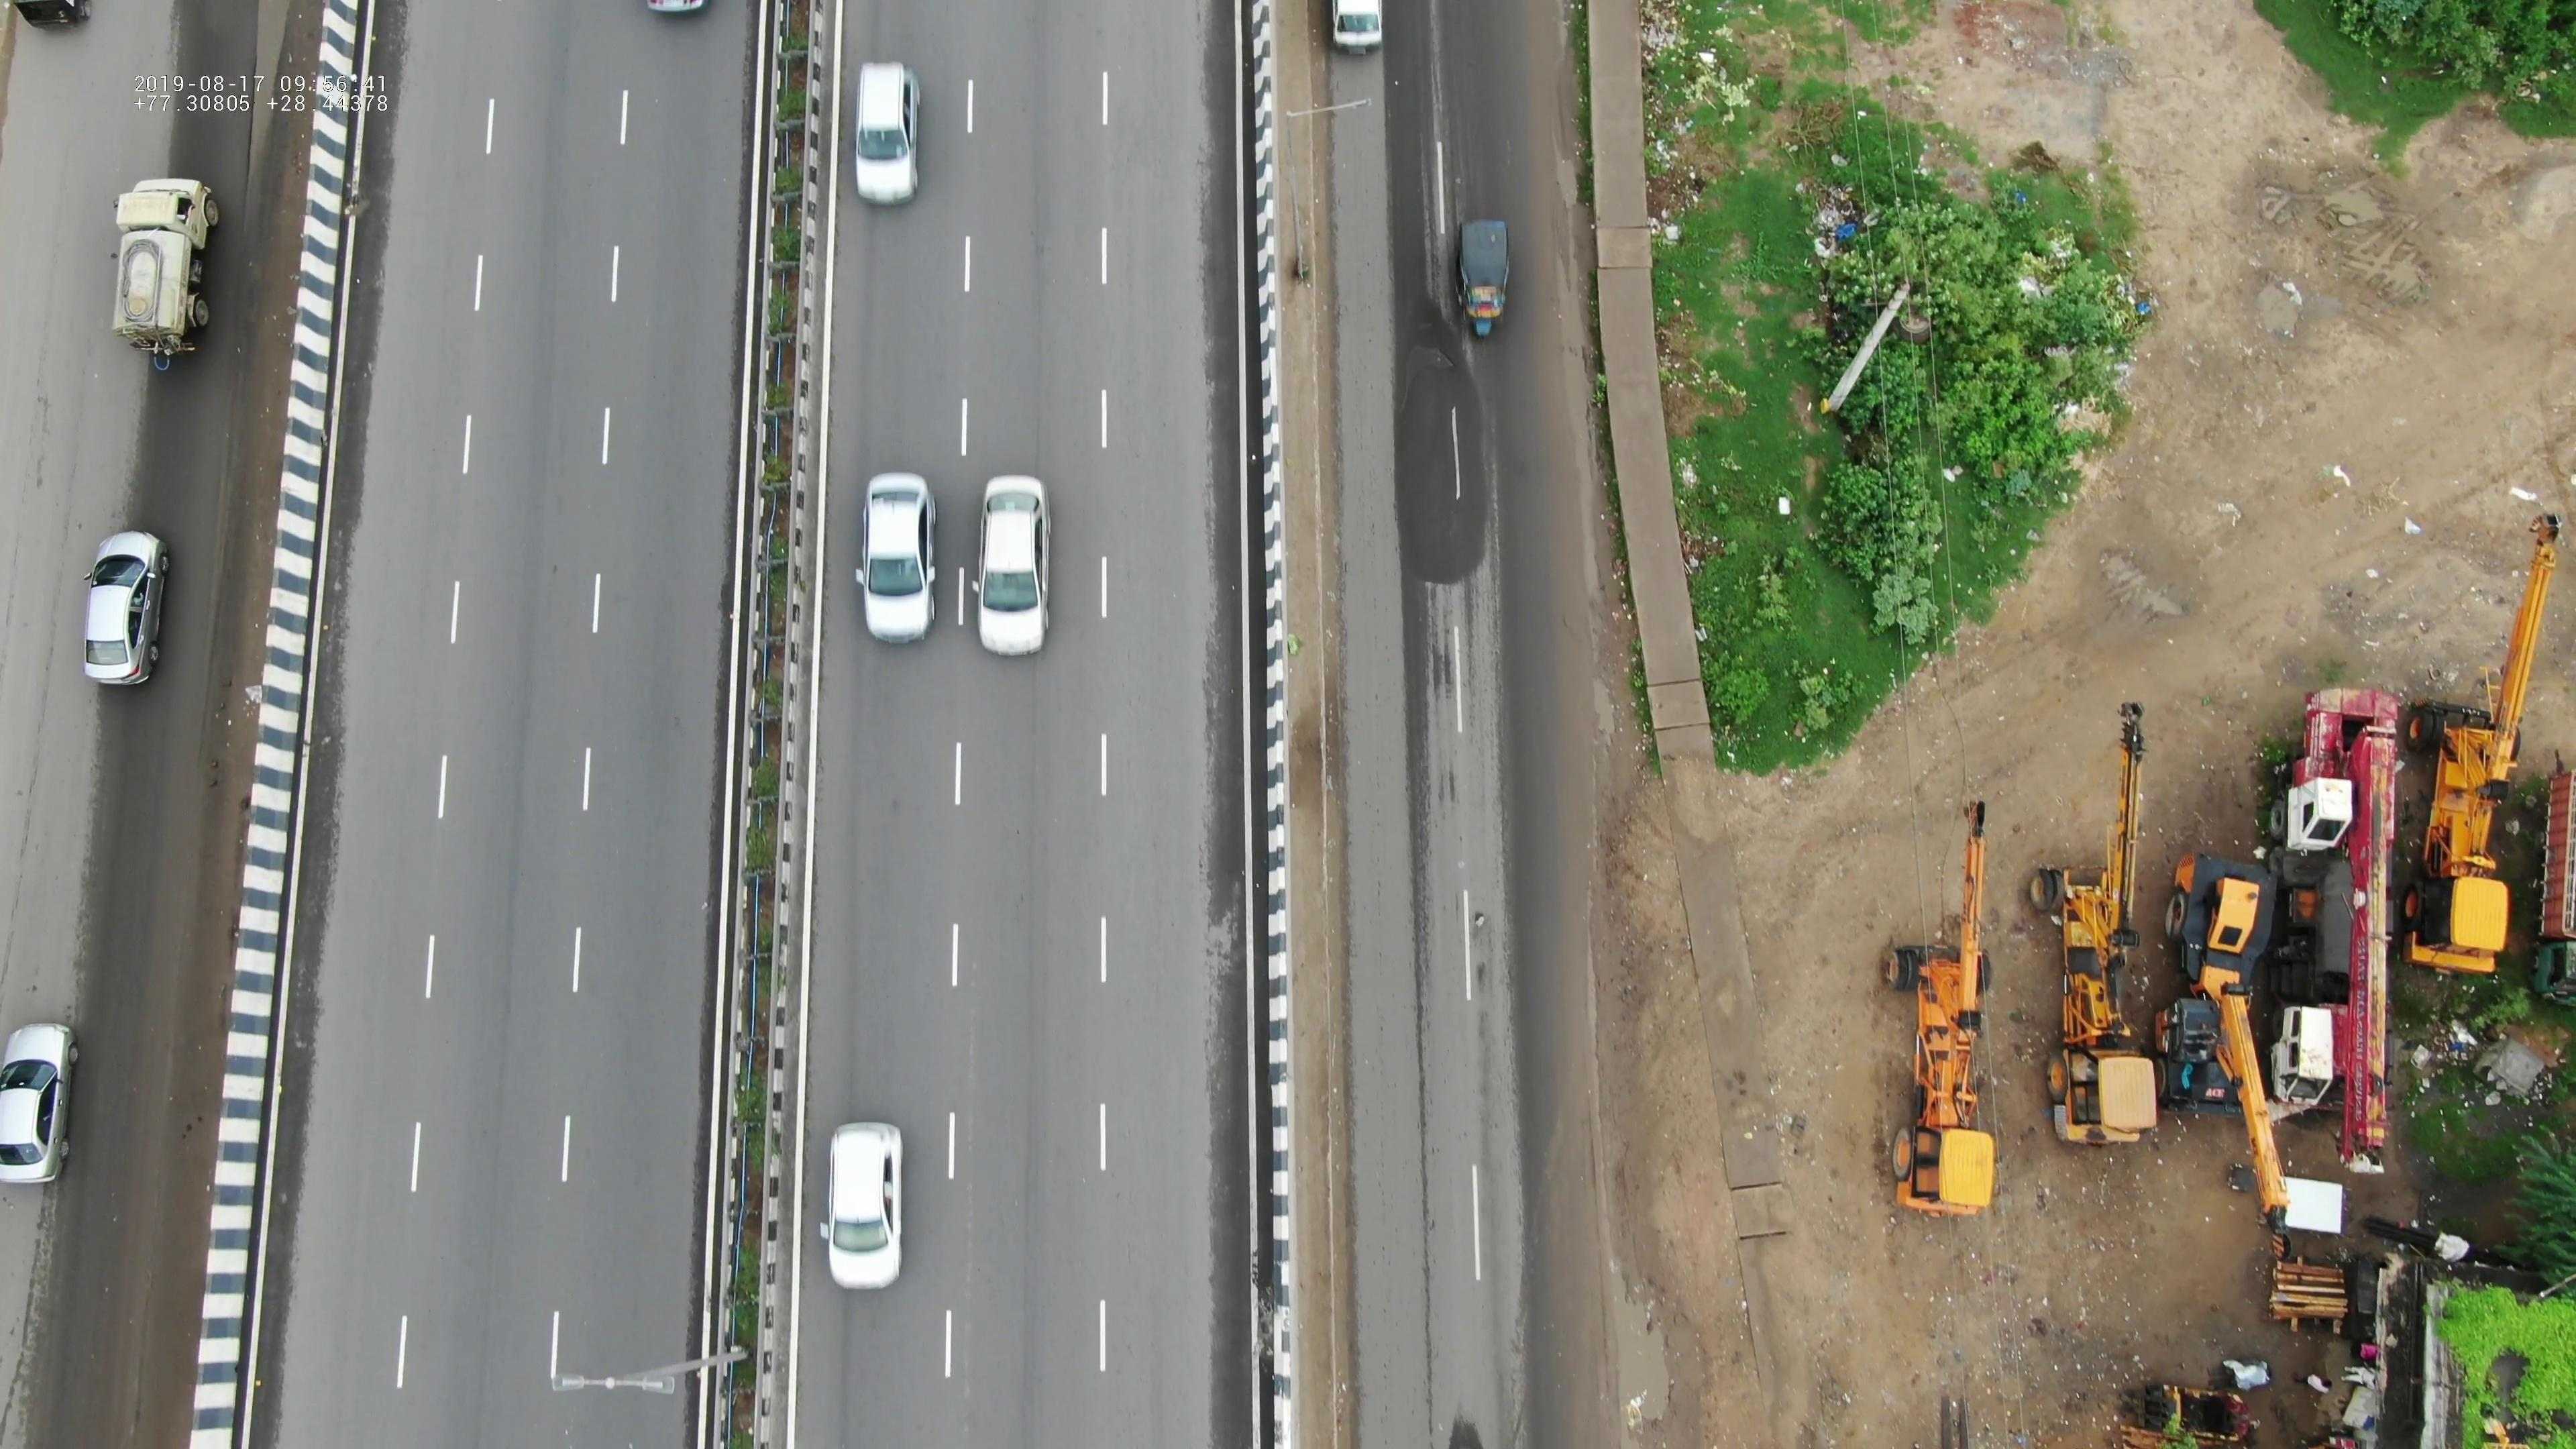Muddy_road: (241, 0, 372, 432)
Potholes: (1375, 333, 1520, 623)
